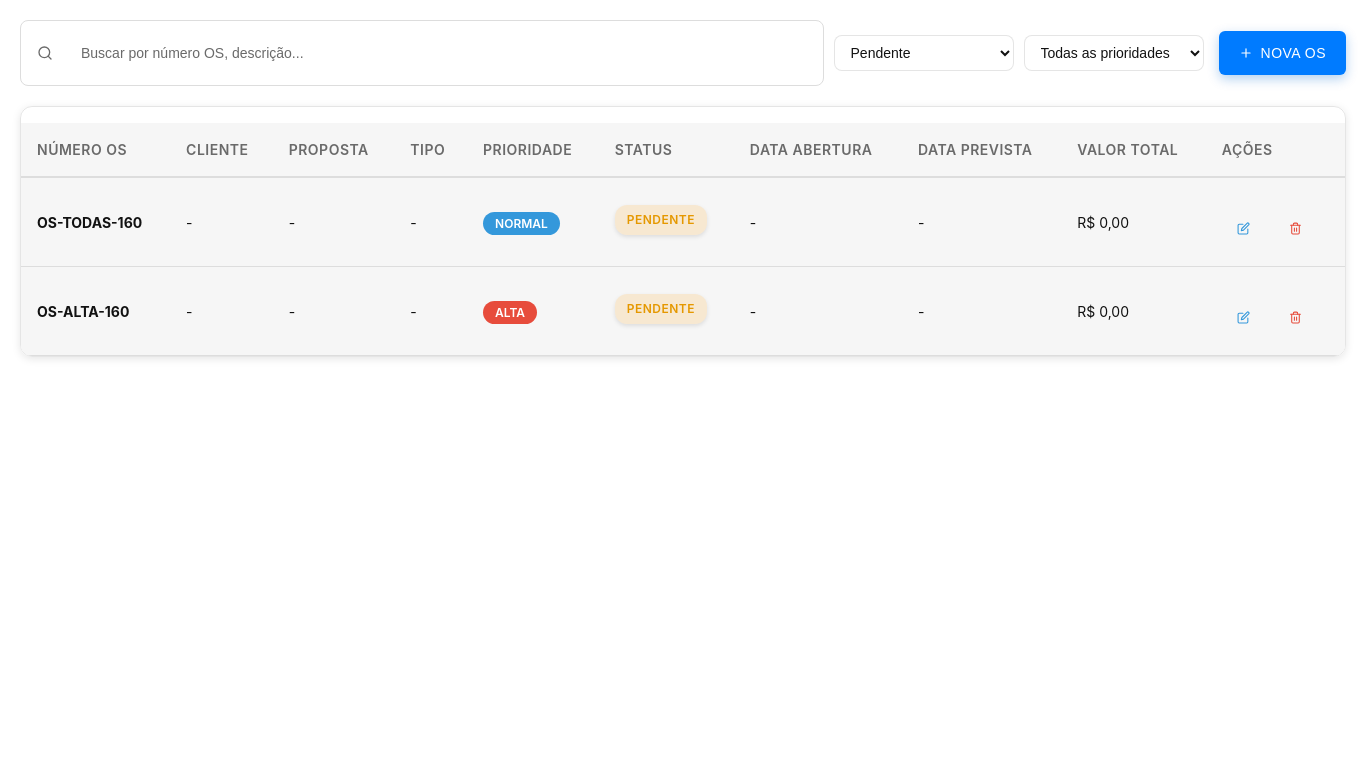
[RN-160.01, C390] a lista das OS: a prioridade vai no pedido, a resposta lenta do filtro anterior nao troca a lista, e o selo usa a classe em minusculas
The image size is (1366, 768).
Select "Pendente" in the 1st dropdown at (924, 53), box [834, 35, 1014, 71]
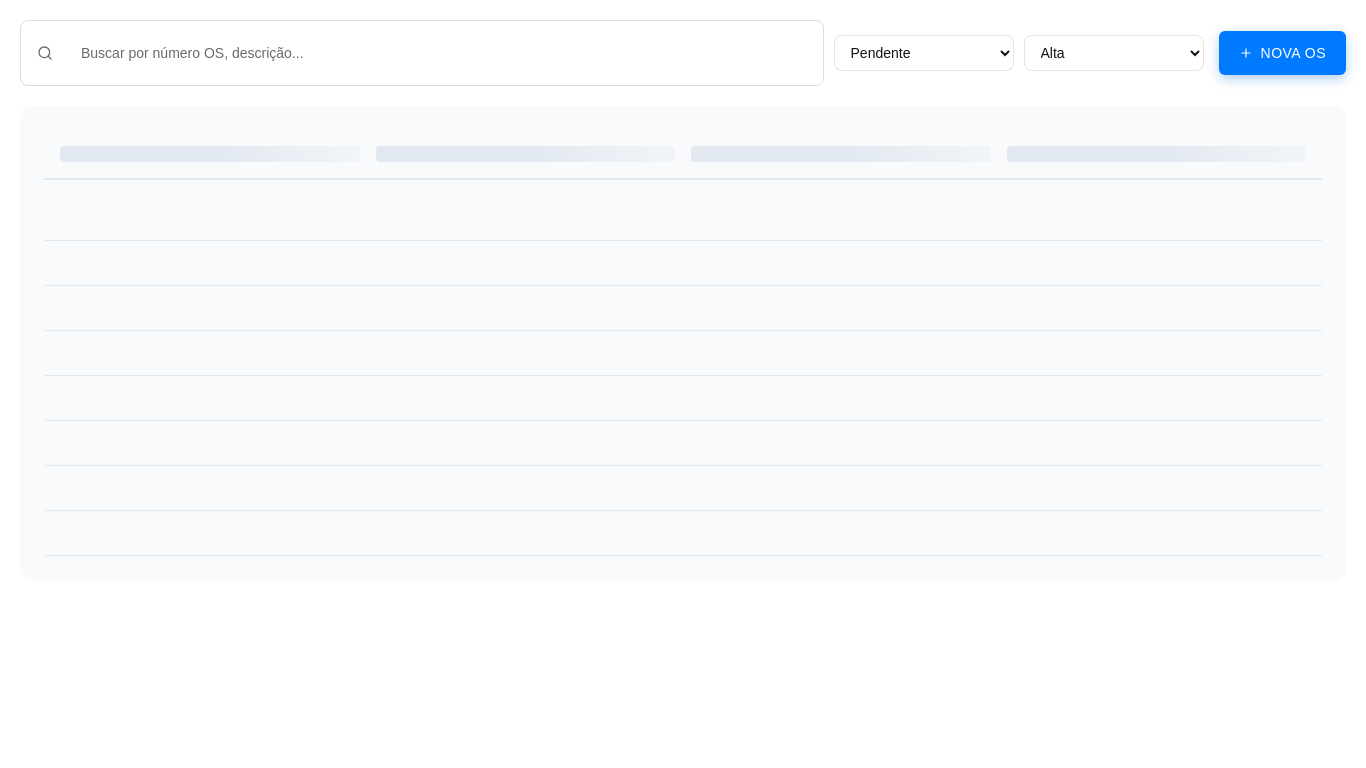
Select "Alta" in the 2nd dropdown at (1114, 53), box [1024, 35, 1204, 71]
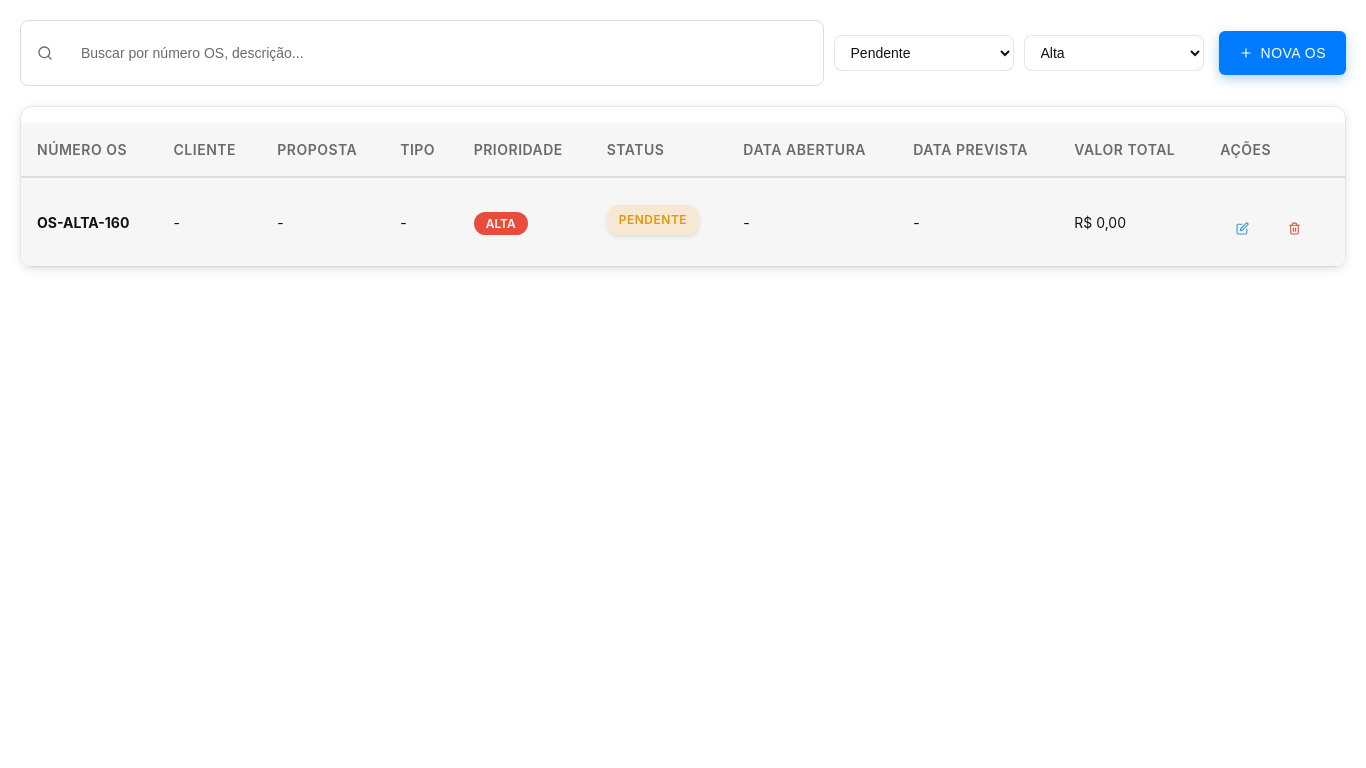
Expected: the text "OS-TODAS-160" is not shown
Expected: the text "OS-ALTA-160" is shown, [37, 214, 129, 230]
